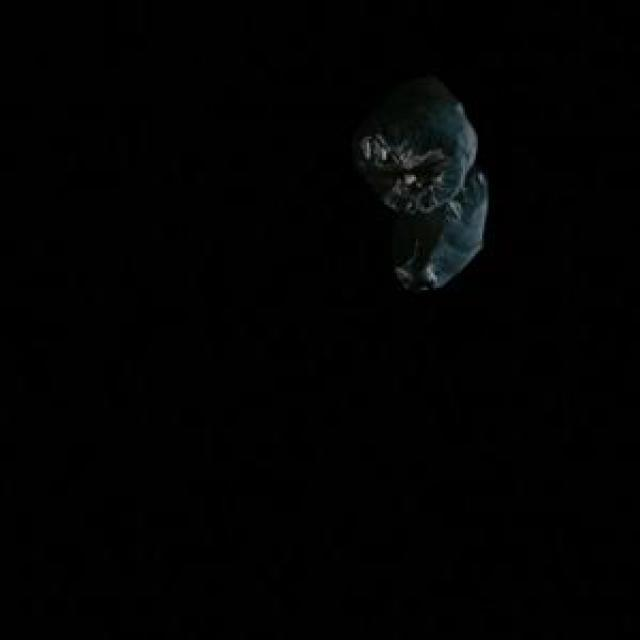miscellaneous trash: (348, 73, 482, 286)
